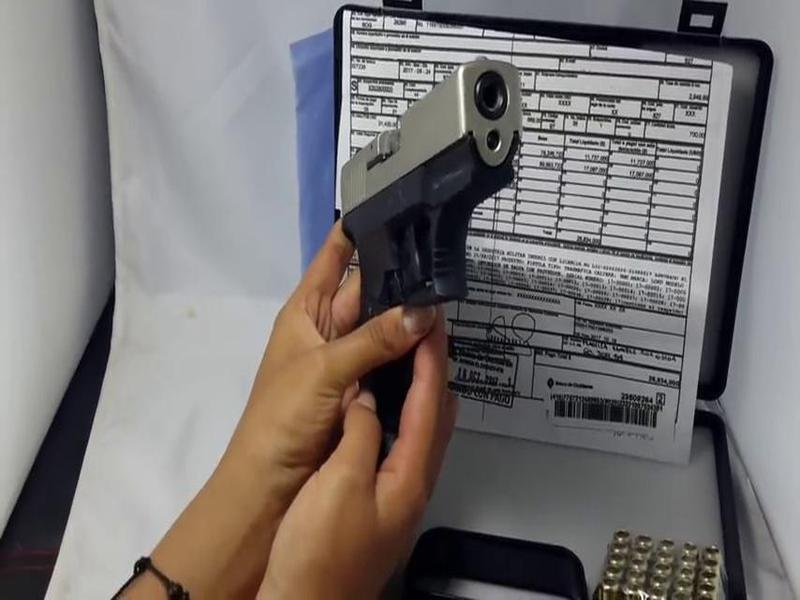Pistola: (316, 39, 547, 429)
